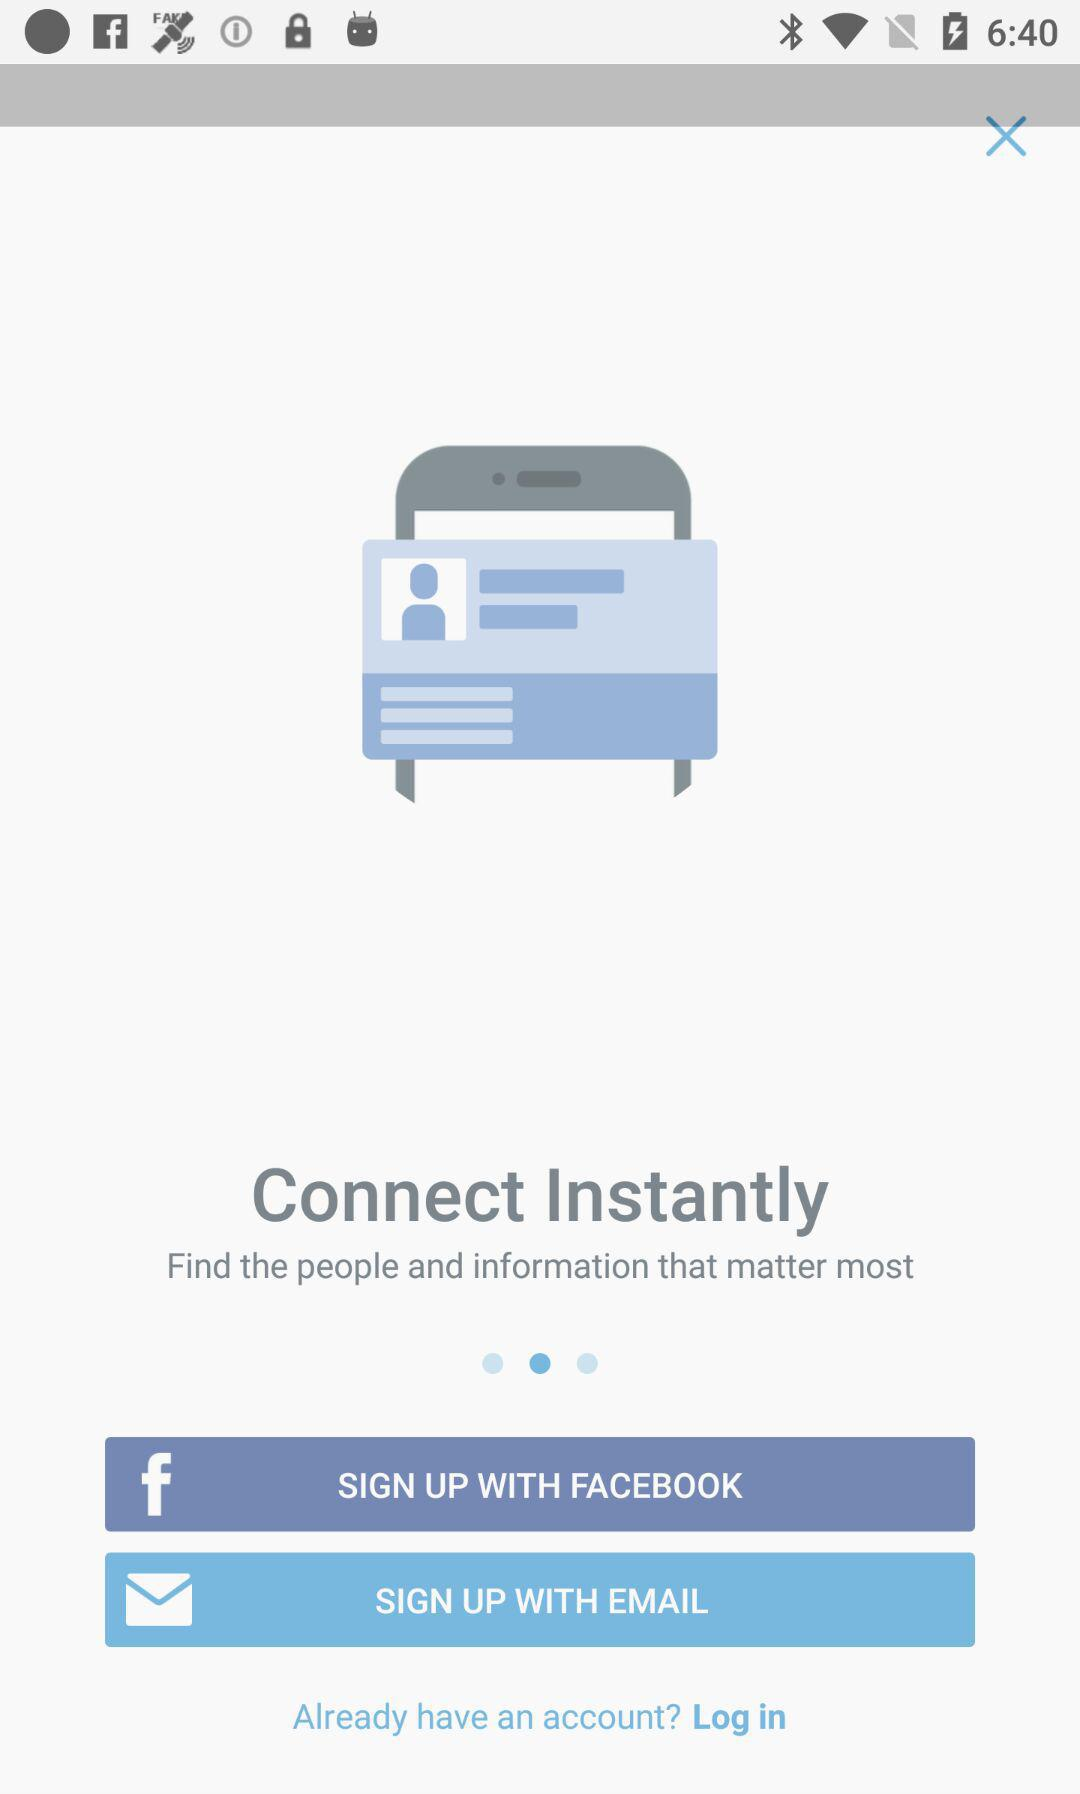Icon: (985, 117, 1027, 158)
Image: (363, 445, 719, 805)
PageIndicator: (477, 1347, 606, 1380)
Text: (254, 1165, 830, 1238), (169, 1251, 915, 1287), (293, 1702, 787, 1738)
TextButton: (105, 1436, 976, 1533), (105, 1552, 976, 1648)
UpperTaskBar: (1, 1, 1080, 64)
